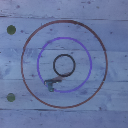Axe Tip: (52, 79, 61, 81)
